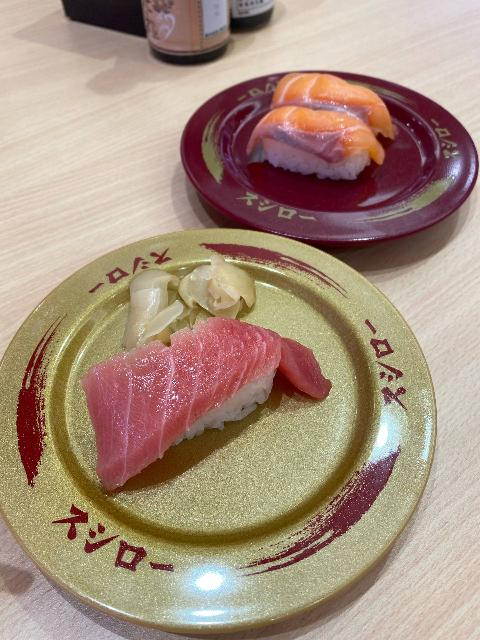jangold: (38, 238, 433, 611)
janred: (190, 82, 465, 239)
